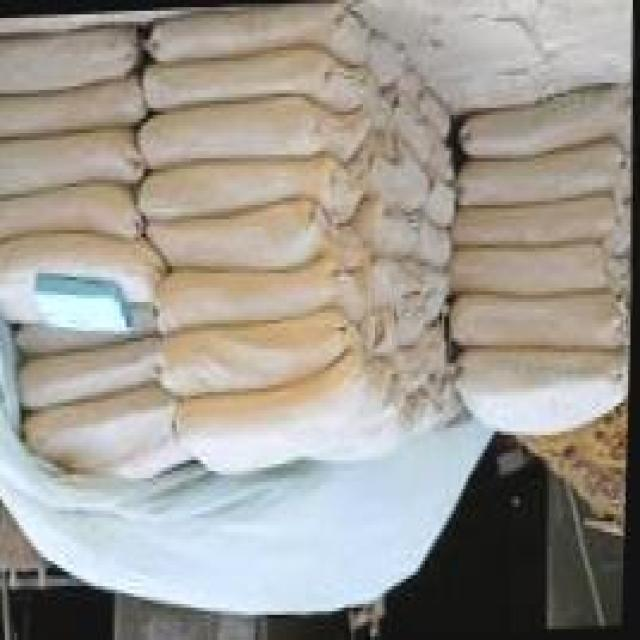gunny_bag: (178, 340, 396, 473), (167, 306, 365, 395), (24, 378, 193, 480), (448, 341, 632, 434), (161, 249, 364, 331), (142, 92, 368, 164), (0, 228, 166, 326), (144, 153, 363, 221), (141, 44, 366, 108), (148, 200, 360, 264), (156, 1, 368, 61), (458, 86, 633, 153), (451, 195, 633, 252), (21, 330, 159, 405), (459, 140, 631, 200), (0, 121, 140, 193), (0, 177, 141, 243), (450, 291, 631, 342), (320, 387, 441, 459), (0, 69, 138, 132), (0, 28, 134, 92), (454, 246, 633, 287), (385, 89, 454, 178), (371, 135, 430, 205), (401, 69, 451, 134), (357, 195, 412, 254), (398, 326, 446, 387), (365, 30, 406, 88), (412, 208, 452, 264), (422, 169, 457, 225)
